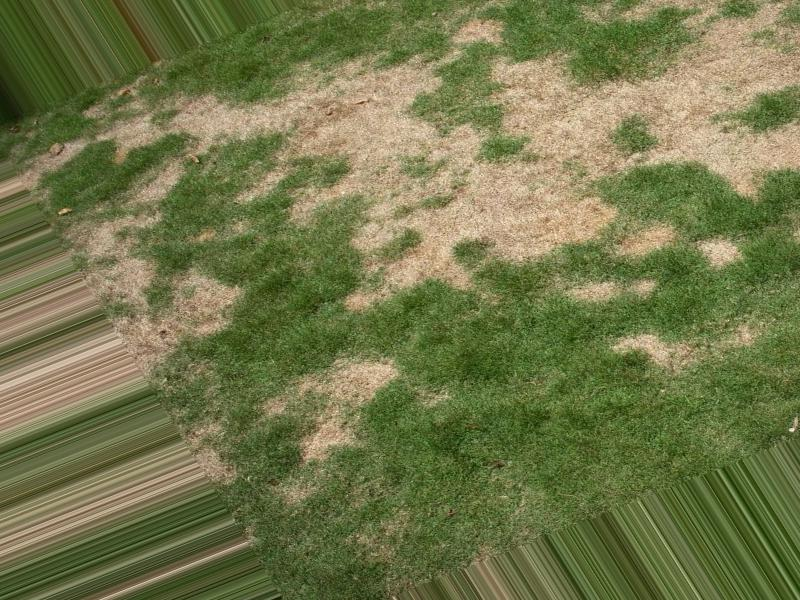patch: (345, 104, 566, 253), (596, 86, 779, 173), (96, 235, 219, 339), (698, 16, 800, 76), (140, 106, 260, 155), (311, 368, 374, 411)
